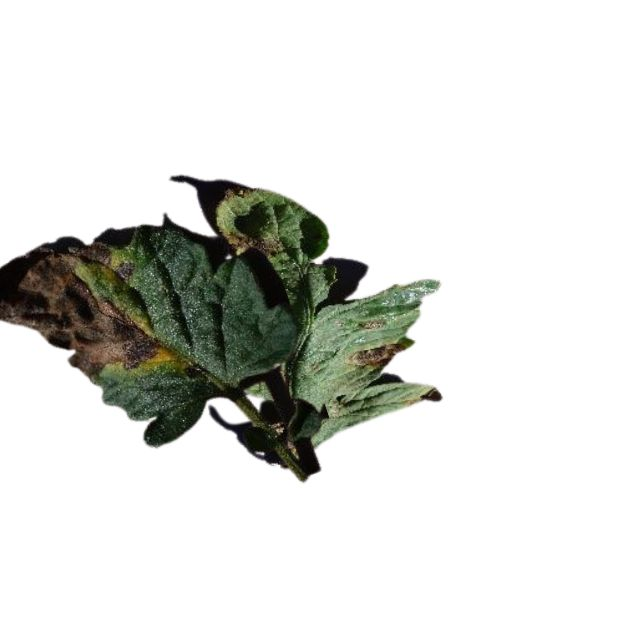Early_blight: (2, 244, 176, 381), (347, 339, 404, 366), (226, 230, 281, 255), (359, 314, 388, 331), (224, 188, 254, 202)
